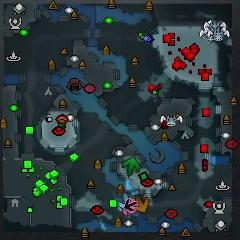x1: (123, 208, 127, 216)
x1Clone: (124, 198, 137, 212)
x3: (118, 201, 126, 210)
x4: (122, 157, 140, 177)
x5: (135, 195, 149, 212)
